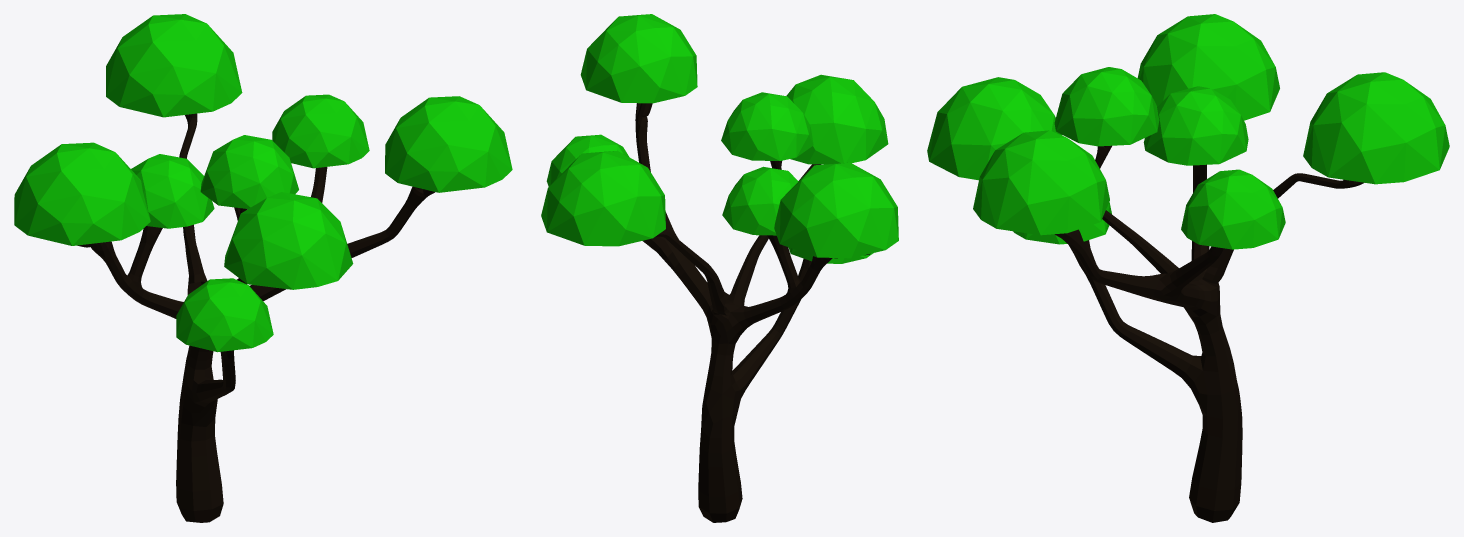
File: tree.obj
The picture shows the model from 3 angles, left to right: view 1: azimuth 30°, elevation 25°; view 2: azimuth 150°, elevation 25°; view 3: azimuth 270°, elevation 25°; orthographic projection. The views are drawn at different scales.
Visible parts, largest first — view 1: Cube, Sphere.006, Sphere.005, Sphere.003, Sphere.001, Sphere.004, Sphere.002, Sphere, Sphere.007; view 2: Cube, Sphere.006, Sphere.005, Sphere.003, Sphere.001, Sphere, Sphere.007, Sphere.002; view 3: Cube, Sphere.006, Sphere.003, Sphere.005, Sphere.001, Sphere, Sphere.002, Sphere.007, Sphere.004.
Part boxes in pixels (x1=…): Cube: x1=77, y1=113, x2=435, y2=522; Sphere.006: x1=106, y1=14, x2=242, y2=117; Sphere.005: x1=14, y1=142, x2=150, y2=245; Sphere.003: x1=385, y1=96, x2=512, y2=192; Sphere.001: x1=224, y1=192, x2=353, y2=289; Sphere.004: x1=176, y1=278, x2=273, y2=352; Sphere.002: x1=272, y1=94, x2=369, y2=168; Sphere: x1=200, y1=135, x2=298, y2=208; Sphere.007: x1=131, y1=154, x2=214, y2=228; Cube: x1=635, y1=103, x2=870, y2=522; Sphere.006: x1=541, y1=150, x2=665, y2=246; Sphere.005: x1=774, y1=162, x2=898, y2=258; Sphere.003: x1=580, y1=14, x2=697, y2=103; Sphere.001: x1=786, y1=74, x2=888, y2=164; Sphere: x1=721, y1=92, x2=813, y2=160; Sphere.007: x1=722, y1=166, x2=798, y2=235; Sphere.002: x1=546, y1=134, x2=629, y2=186; Cube: x1=1054, y1=145, x2=1364, y2=522; Sphere.006: x1=1303, y1=72, x2=1449, y2=184; Sphere.003: x1=973, y1=130, x2=1109, y2=235; Sphere.005: x1=1137, y1=14, x2=1279, y2=120; Sphere.001: x1=927, y1=77, x2=1062, y2=180; Sphere: x1=1054, y1=67, x2=1159, y2=146; Sphere.002: x1=1181, y1=169, x2=1285, y2=249; Sphere.007: x1=1143, y1=86, x2=1248, y2=165; Sphere.004: x1=1013, y1=202, x2=1111, y2=244.
Size of the model in its own units: 5.92 by 6.14 by 6.18.
